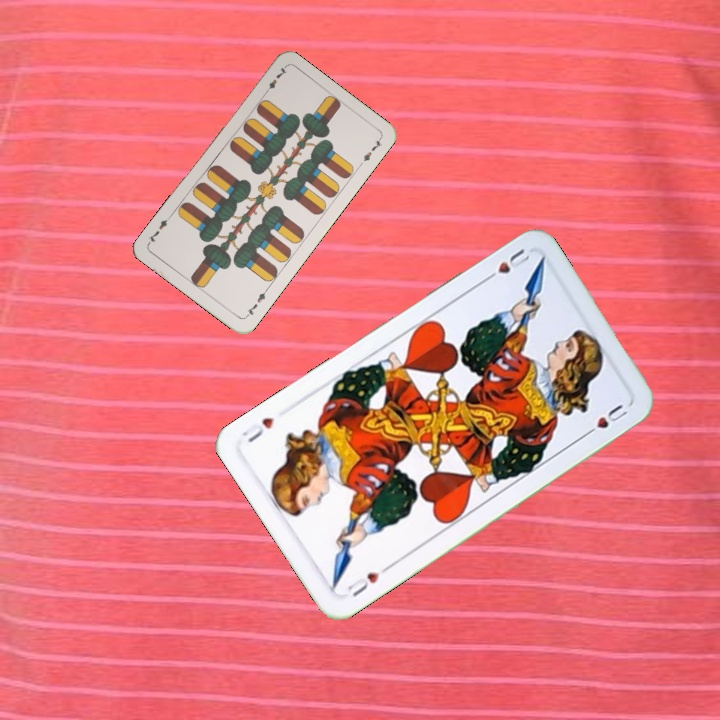E7: (259, 63, 289, 98), (241, 285, 270, 320)
HU: (480, 244, 533, 284), (343, 562, 392, 599)
